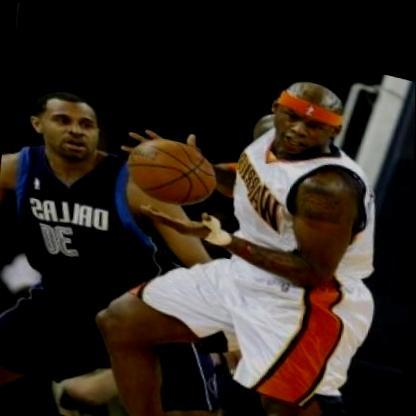basketball: (122, 123, 222, 208)
